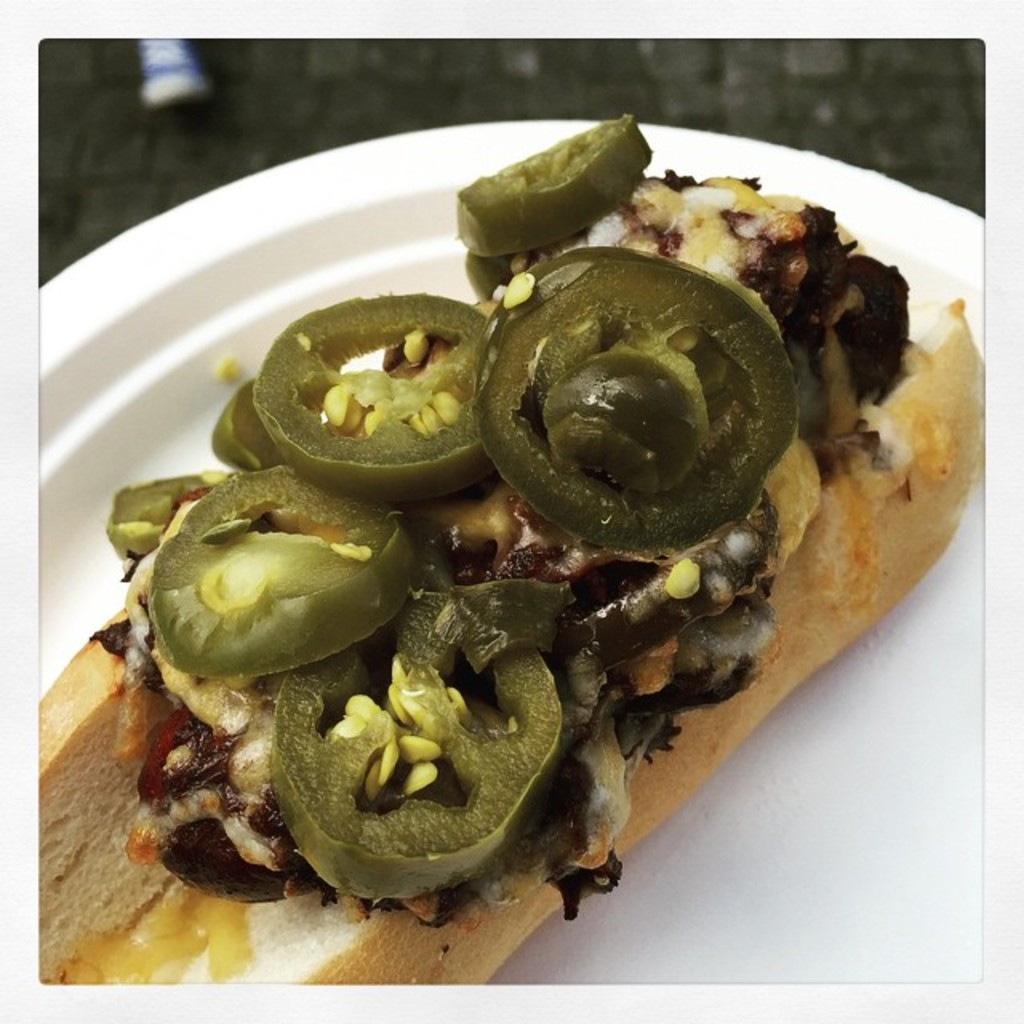person: (45, 37, 216, 111)
